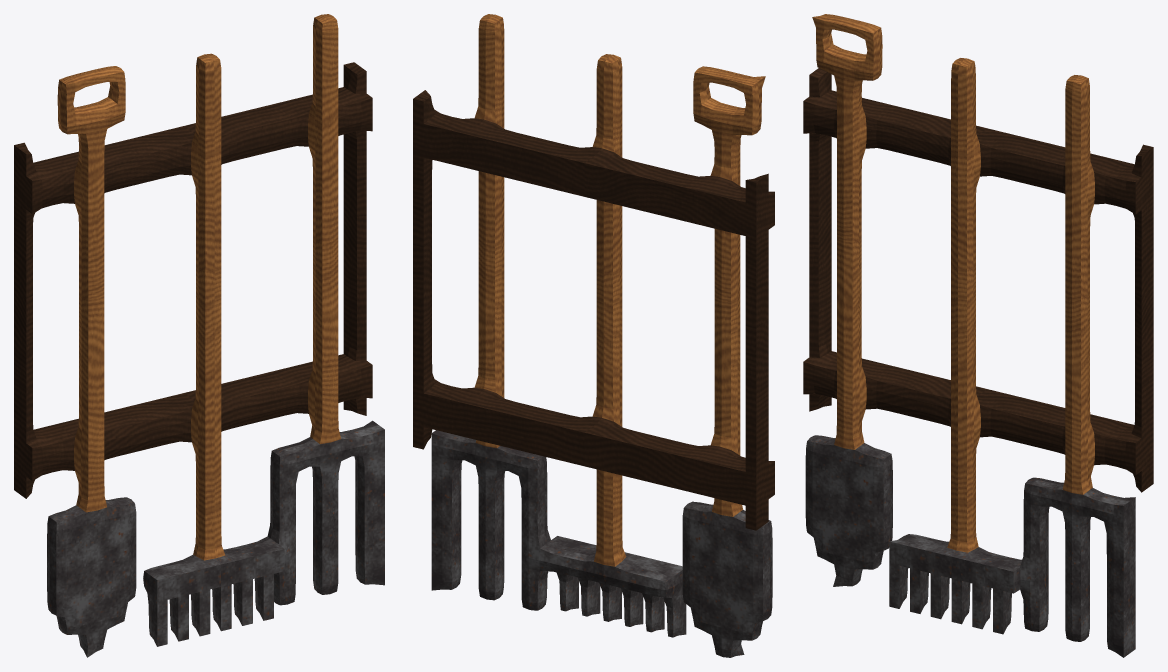
The model's file is prop_tool_rack.glb.
3 views of the same model, side by side, from view 1: azimuth 30°, elevation 25°; view 2: azimuth 150°, elevation 25°; view 3: azimuth 330°, elevation 25° (orthographic). The views are drawn at different scales.
Parts seen in each view (by area): view 1: town_prop_tool_rack; view 2: town_prop_tool_rack; view 3: town_prop_tool_rack.
Part boxes in pixels (x1,y1,x2,y2): town_prop_tool_rack: [14, 14, 384, 657]; town_prop_tool_rack: [413, 14, 774, 657]; town_prop_tool_rack: [803, 14, 1153, 657].
Bounding box in the file's own units: 1 × 1.62 × 0.1875.
1 material, 1 textured.
